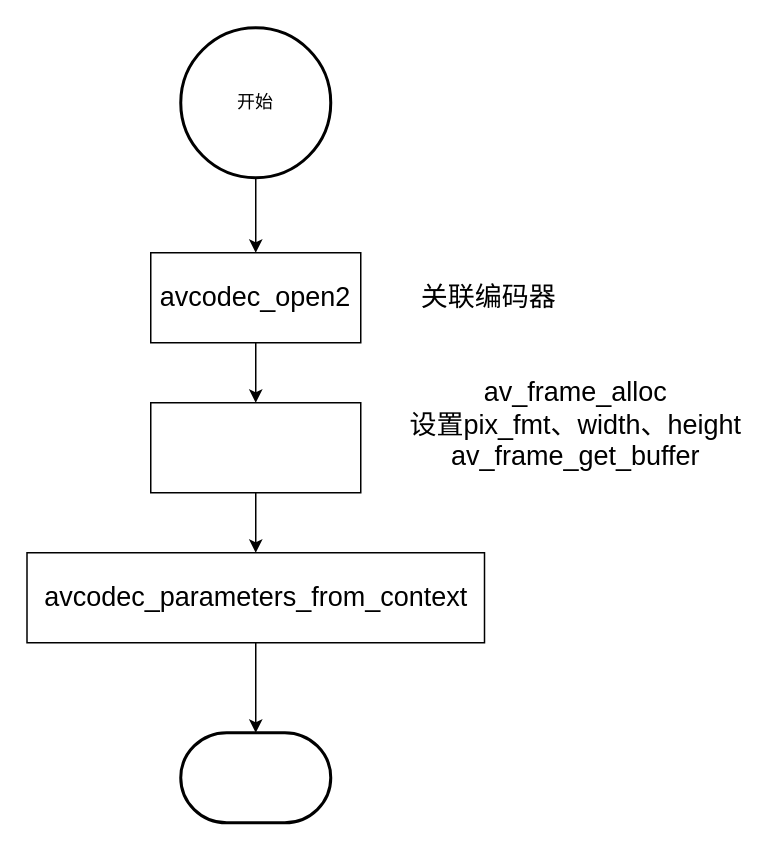
The diagram is 780 pixels wide and 849 high, and some of its shapes have lost their labels. The centre of each missing label's shape, as x and y in pixels:
"alloc_picture" belongs at (255,447).
"end" belongs at (255,777).
